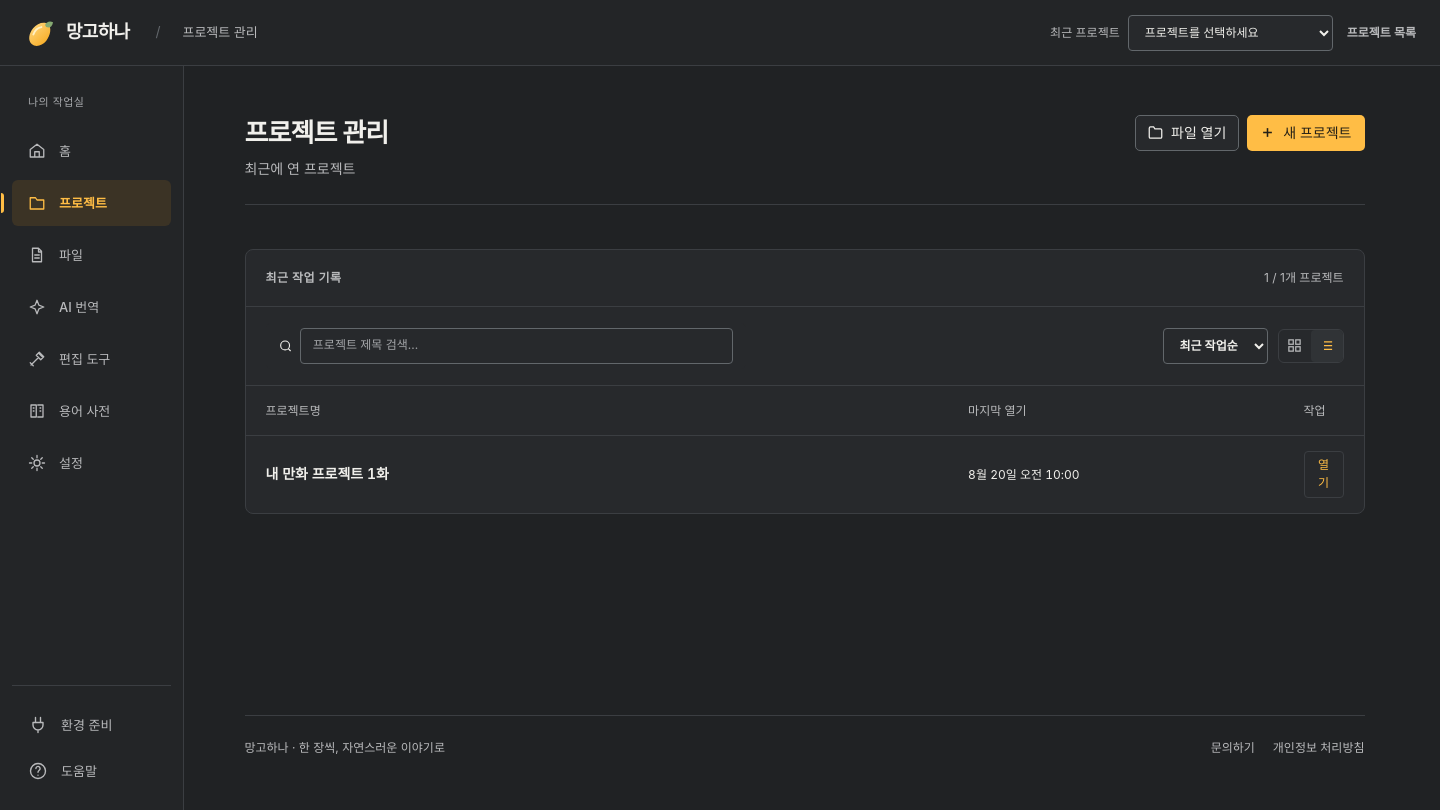
Scenario: ProjectsPage › toggles between grid and list views
The image size is (1440, 810).
Click the button named "그리드 뷰": (1294, 346) [1278, 330, 1310, 362]
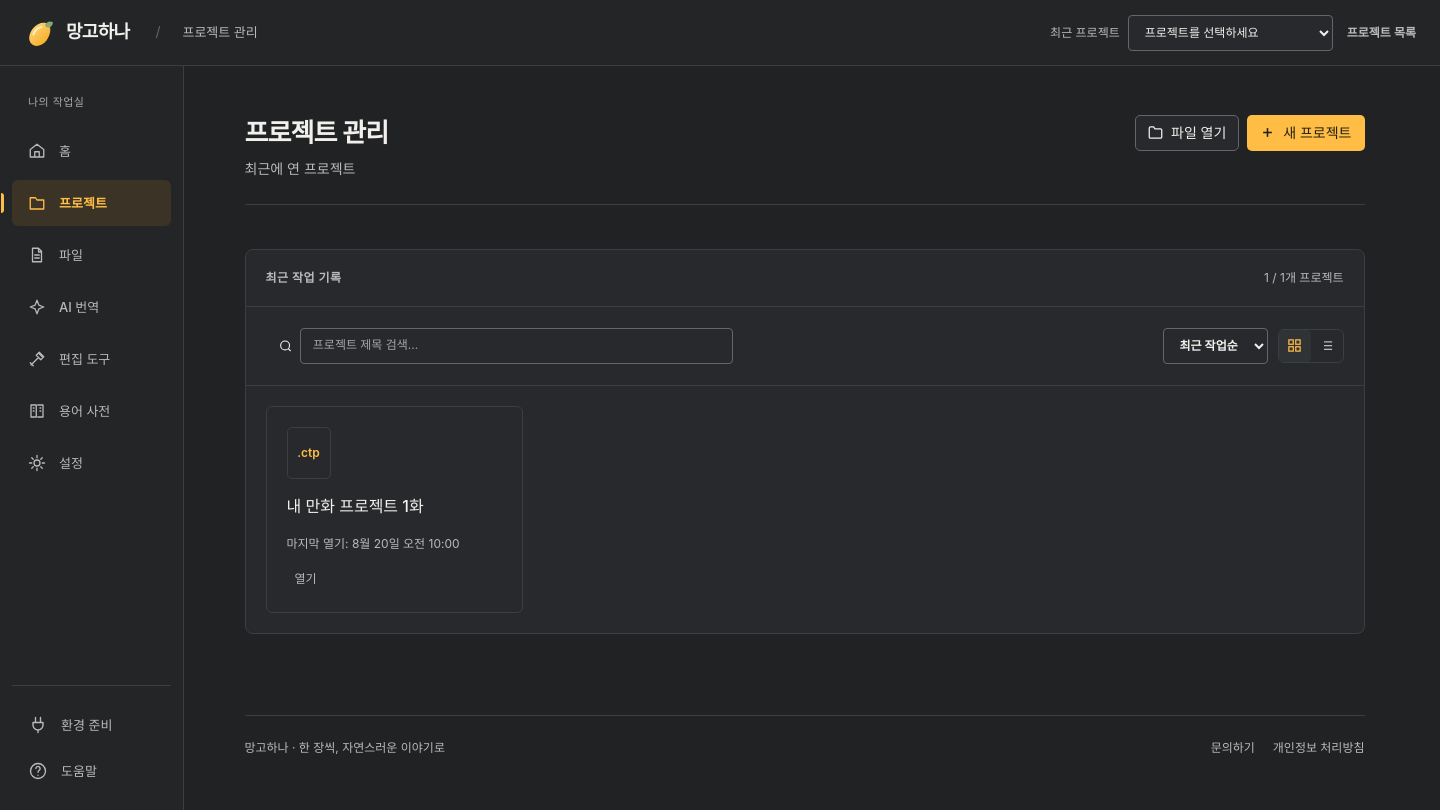
Expected: the heading "내 만화 프로젝트 1화" is shown, [286, 495, 424, 518]
Now the table is gone
Click the button named "리스트 뷰": (1326, 346) [1310, 330, 1342, 362]
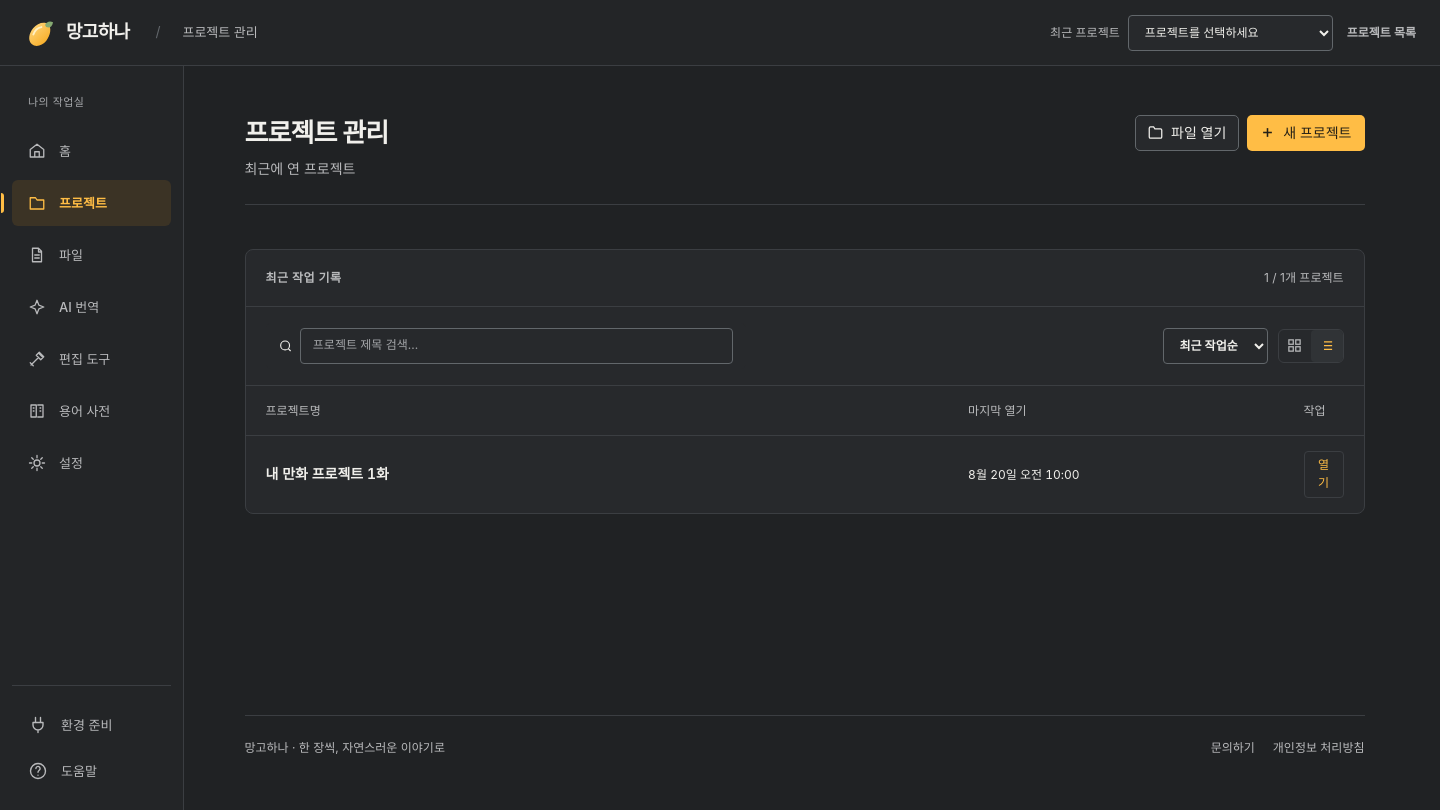
Now the table is shown, box [246, 386, 1364, 513]
Now the column heading "프로젝트명" is shown, box [246, 386, 948, 435]
